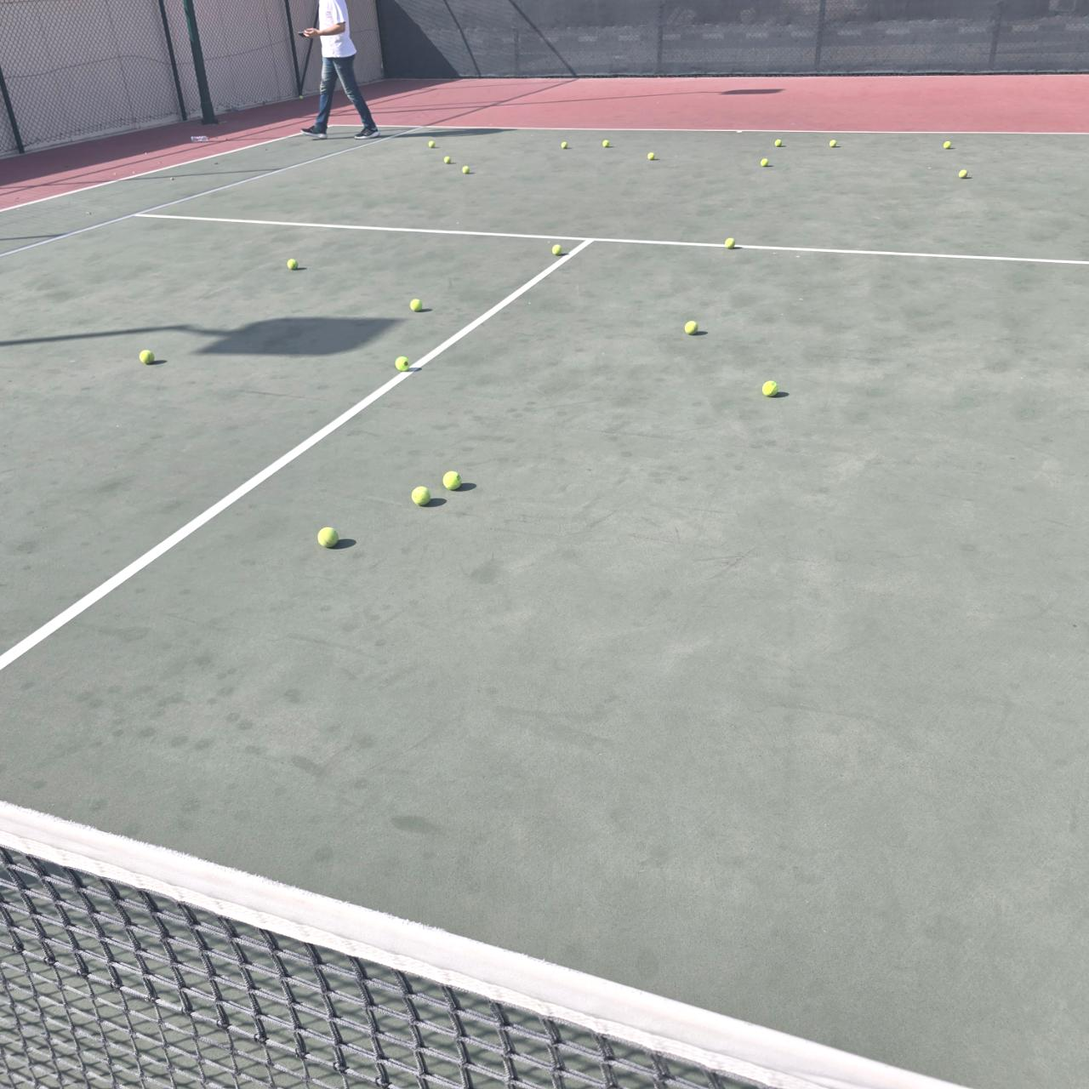tennis-ball: (317, 527, 339, 547), (442, 470, 462, 490), (412, 486, 431, 506), (762, 380, 778, 396), (395, 355, 410, 371), (140, 349, 155, 364), (684, 320, 698, 335), (409, 298, 423, 312), (287, 259, 298, 271), (725, 237, 735, 250), (552, 244, 562, 255), (959, 169, 968, 180), (760, 158, 768, 167), (647, 152, 655, 161), (462, 165, 470, 174), (829, 140, 837, 148), (774, 139, 782, 147), (944, 141, 951, 149), (602, 140, 609, 148), (561, 141, 568, 149), (444, 156, 451, 164), (428, 141, 435, 148)
